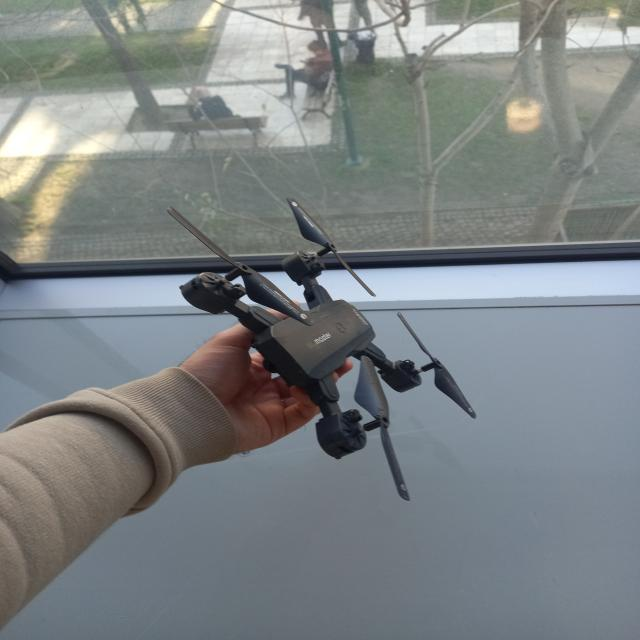drones: (156, 187, 492, 522)
